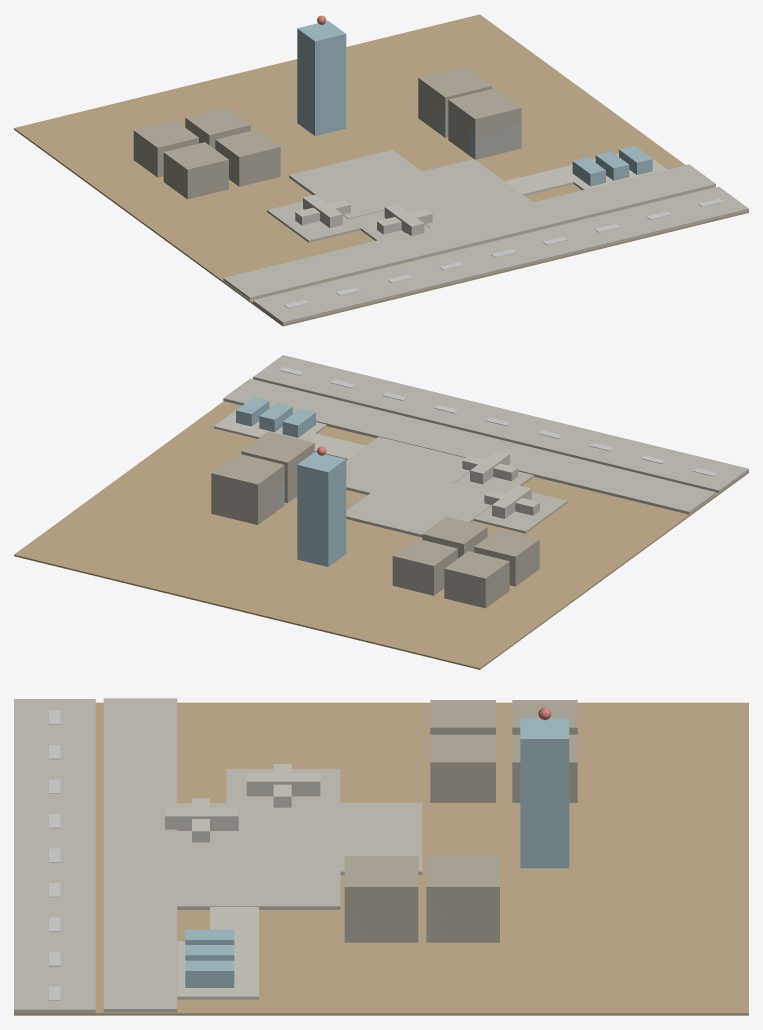
Rendered from stage_14.glb.
3 views of the same model, one above another, from view 1: azimuth 30°, elevation 25°; view 2: azimuth 150°, elevation 25°; view 3: azimuth 270°, elevation 25° (orthographic). The views are drawn at different scales.
Visible parts, largest first — view 1: geometry_0; view 2: geometry_0; view 3: geometry_0.
Part boxes in pixels (<box>): geometry_0: <box>14,14,748,326</box>; geometry_0: <box>14,355,748,669</box>; geometry_0: <box>14,698,748,1015</box>.
Size of the model in its own units: 9 by 2.06 by 9.
